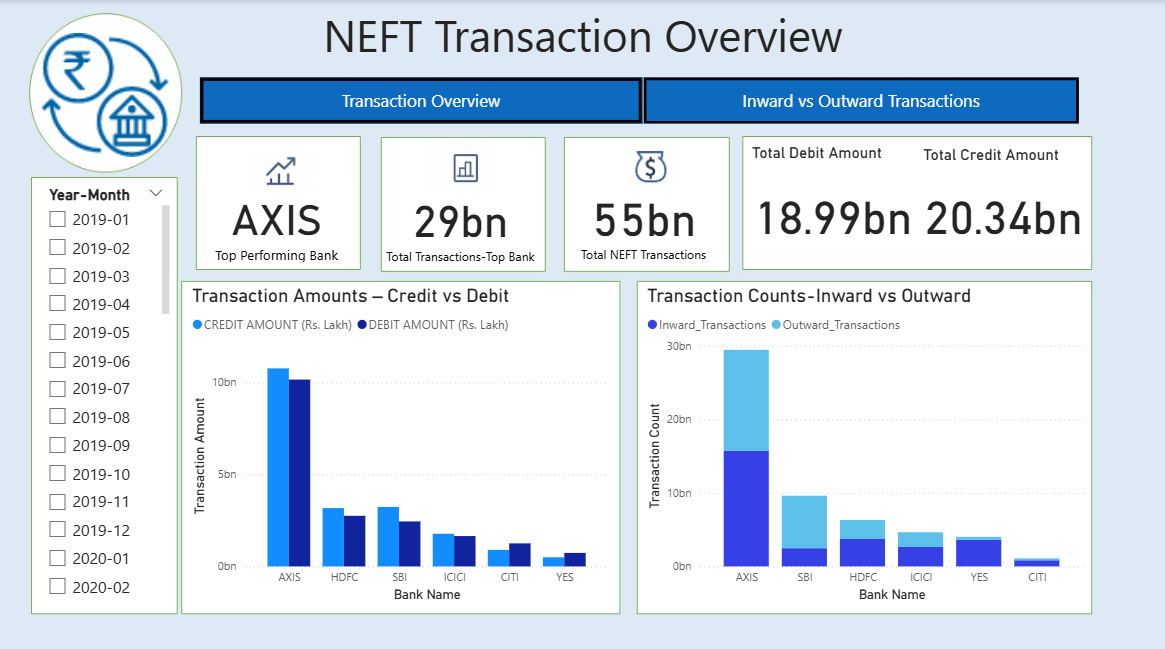

What the dashboard file says about the page in this screenshot:
{"tool":"powerbi","page":{"name":"Page 1","canvas":[1280,720],"ordinal":0},"visuals":[{"type":"columnChart","title":"Transaction Counts-Inward vs Outward","fields":{"Category":["Append1.Bank Name"],"Y":["Sum(Append1.Value)"],"Series":["Append1.Attribute"]},"box":[705.3,312.9,489.9,352.7],"z":0},{"type":"clusteredColumnChart","title":"Transaction Amounts – Credit vs Debit","fields":{"Y":["Sum(Append1.Value.1)"],"Category":["Append1.Bank Name"],"Series":["Append1.Attribute.1"]},"box":[205.8,312.9,467.9,352.7],"z":1000},{"type":"card","title":"Total NEFT Transactions","fields":{"Values":["Append1.Total_NEFT_Transactions"]},"box":[625.7,194.9,161.9,98.8],"z":2000},{"type":"card","title":"Top Performing Bank ","fields":{"Values":["Append1.Top_Bank_Transaction"]},"box":[216.8,199,174.3,89.2],"z":3000},{"type":"card","title":"Total Transactions -Top Bank","fields":{"Values":["Append1.Max_Transactions"]},"box":[410.3,188,190.7,112.5],"z":4000},{"type":"card","title":"Total Debit Amount","fields":{"Values":["Append1.Total_Debit"]},"box":[820.6,157.8,188,130.4],"z":5000},{"type":"card","title":"Total Credit Amount","fields":{"Values":["Append1.Total_Credit"]},"box":[1008.6,159.2,186.6,129],"z":6000},{"type":"slicer","fields":{"Values":["Append1.YearMonth"]},"box":[41.2,199,149.6,466.6],"z":7000},{"type":"image","box":[41.2,22,149.6,164.7],"z":8000},{"type":"textbox","box":[349.9,0,709.4,76.8],"z":9000},{"type":"actionButton","title":"Transactions Overview","box":[219.6,85.1,485.8,50.8],"z":10000},{"type":"actionButton","box":[706.7,85.1,477.5,50.8],"z":11000},{"type":"image","box":[271.7,148.2,78.2,79.6],"z":13000},{"type":"image","box":[463.8,149.6,85.1,64.5],"z":14000},{"type":"image","box":[684.7,146.8,64.5,71.4],"z":15000}]}

Visuals, with their boxes in screenshot pixels (x1, y1, x2, y2), scaled from the page's 1280x720 canvas onto the 1165x649 screenshot:
"Transaction Counts-Inward vs Outward" columnChart: [642, 282, 1088, 600]
"Transaction Amounts – Credit vs Debit" clusteredColumnChart: [187, 282, 613, 600]
"Total NEFT Transactions" card: [569, 176, 717, 265]
"Top Performing Bank " card: [197, 179, 356, 260]
"Total Transactions -Top Bank" card: [373, 169, 547, 271]
"Total Debit Amount" card: [747, 142, 918, 260]
"Total Credit Amount" card: [918, 144, 1088, 260]
slicer - Append1.YearMonth: [37, 179, 174, 600]
image: [37, 20, 174, 168]
textbox: [318, 0, 964, 69]
"Transactions Overview" actionButton: [200, 77, 642, 122]
actionButton: [643, 77, 1078, 122]
image: [247, 134, 318, 205]
image: [422, 135, 500, 193]
image: [623, 132, 682, 197]
